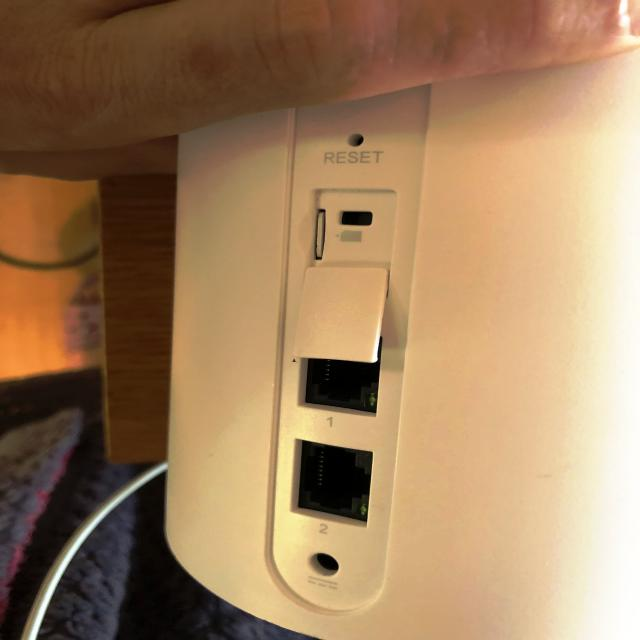lan: (293, 433, 377, 528)
modem: (152, 0, 640, 640)
pow: (289, 542, 370, 612)
siminside: (303, 205, 341, 266)
